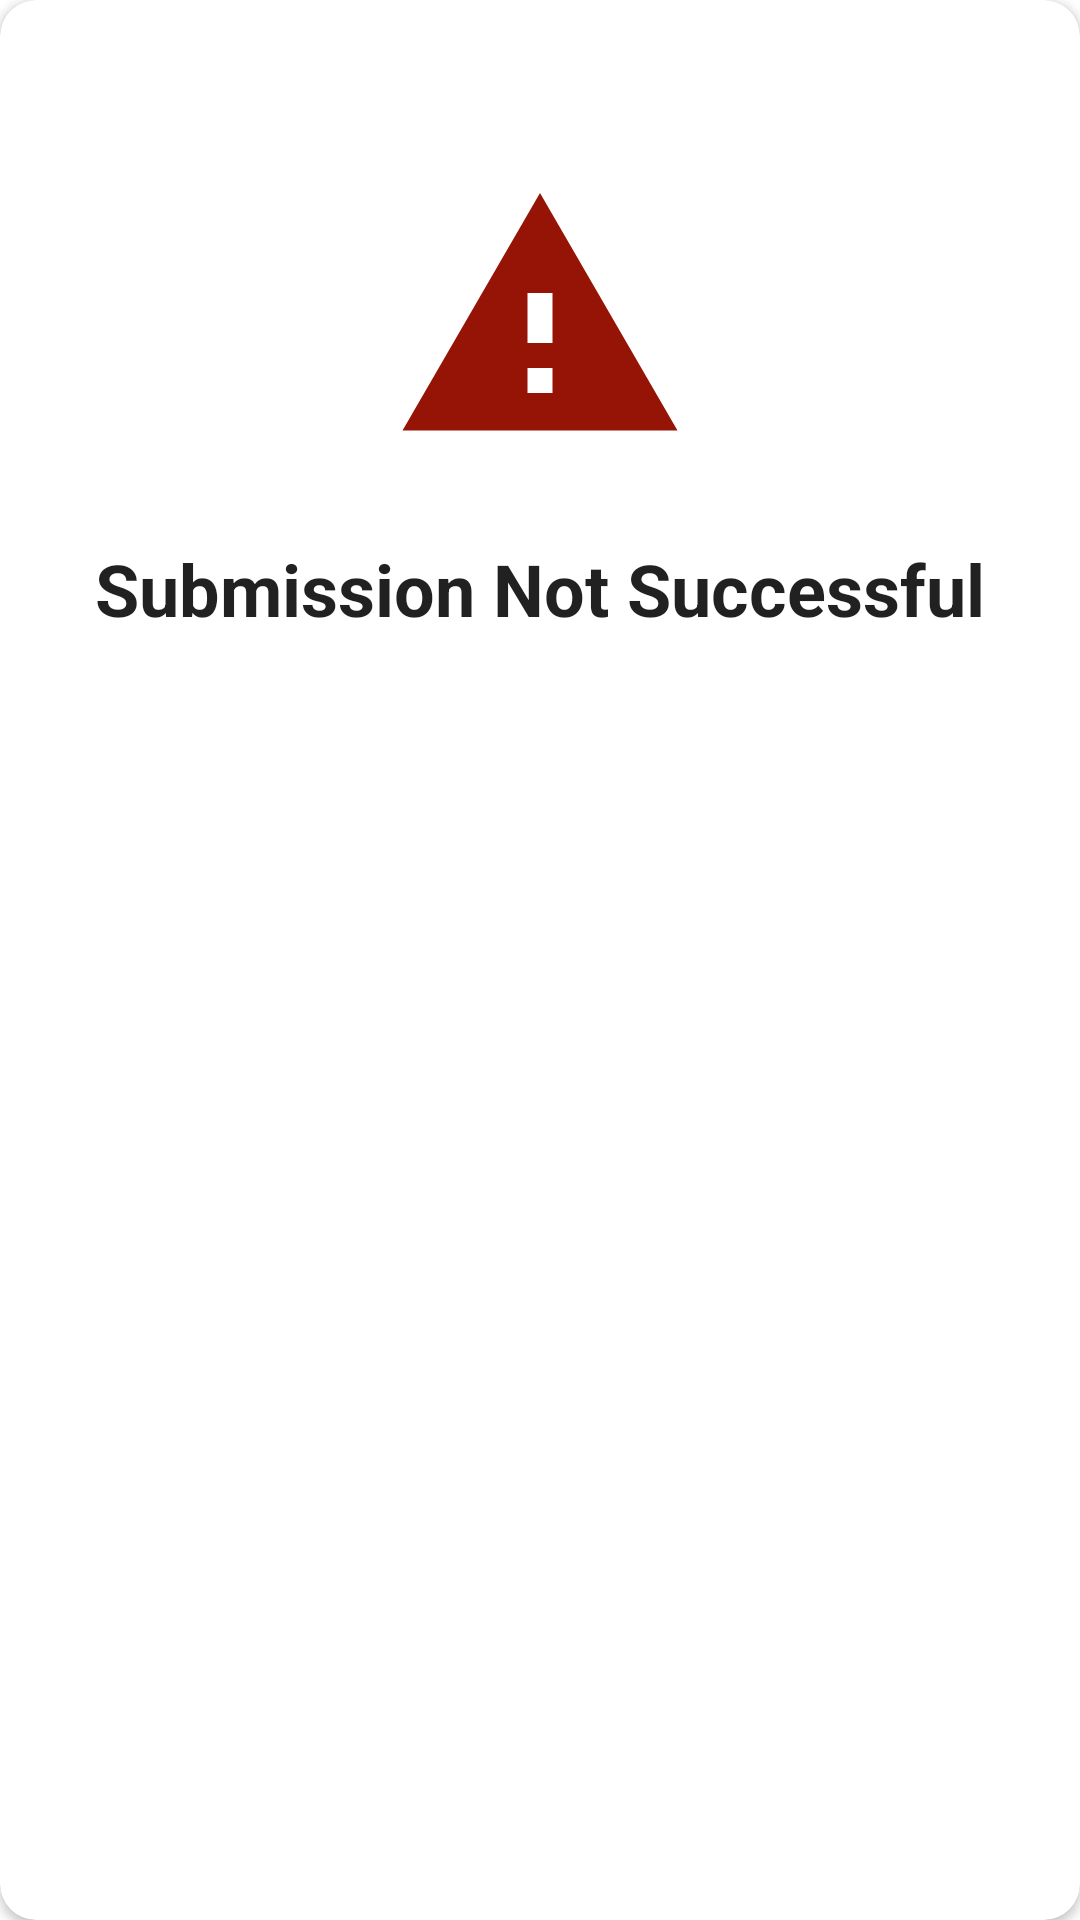

Point at icon controls on the screen. Image size 1080 x 1920, points as [x,y].
warning: [540,312]
